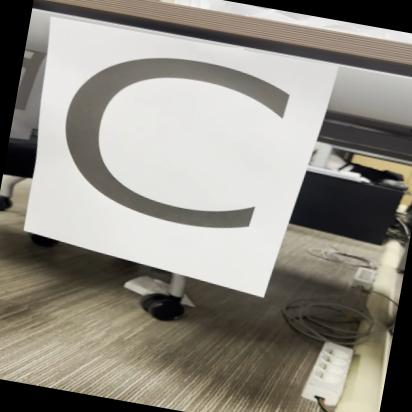seat: (15, 16, 331, 295)
